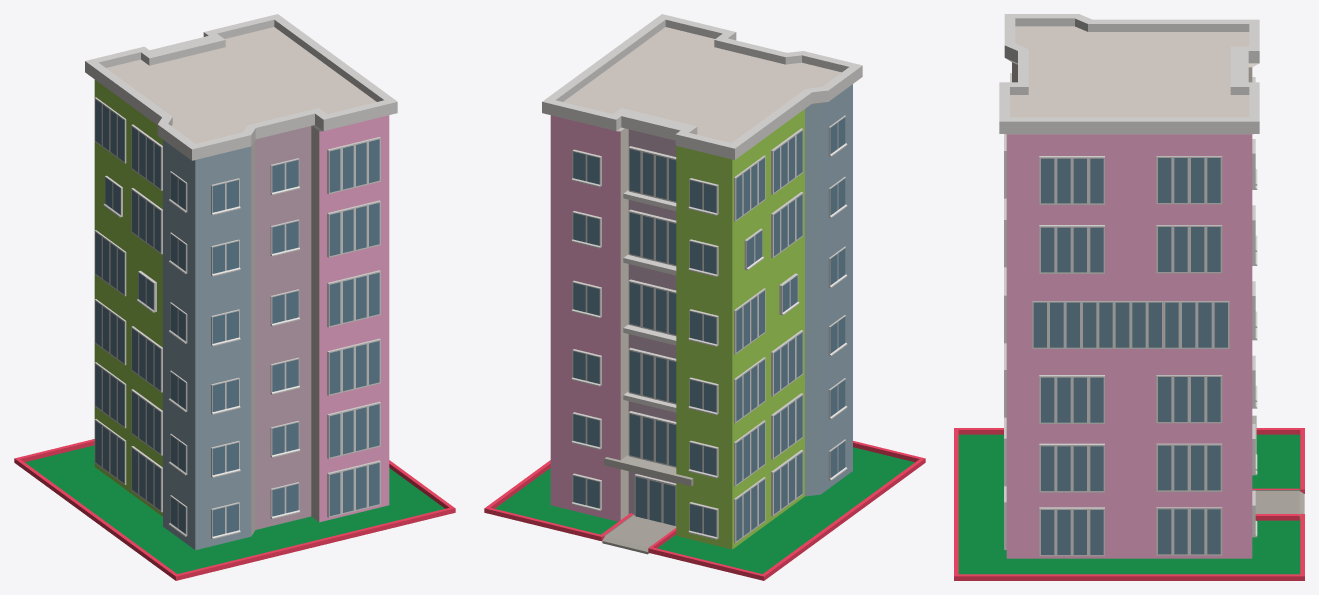
The model's file is apartment_lonely_High.fbx.
The picture shows the model from 3 angles, left to right: view 1: azimuth 30°, elevation 25°; view 2: azimuth 150°, elevation 25°; view 3: azimuth 270°, elevation 25°; orthographic projection. The views are drawn at different scales.
Visible parts, largest first — view 1: Appartment, Ground; view 2: Appartment, Ground; view 3: Appartment, Ground.
Boxes of the visible parts, <box> form: Appartment: <box>85,14,397,550</box>; Ground: <box>14,439,455,580</box>; Appartment: <box>542,14,862,549</box>; Ground: <box>484,441,925,580</box>; Appartment: <box>999,14,1259,558</box>; Ground: <box>954,428,1304,580</box>.
Bounding box in the file's own units: 20 × 27.8 × 20.
